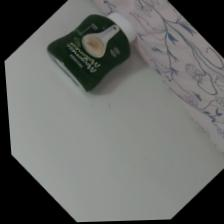glass: (48, 7, 132, 108)
plastic: (48, 7, 131, 90)
